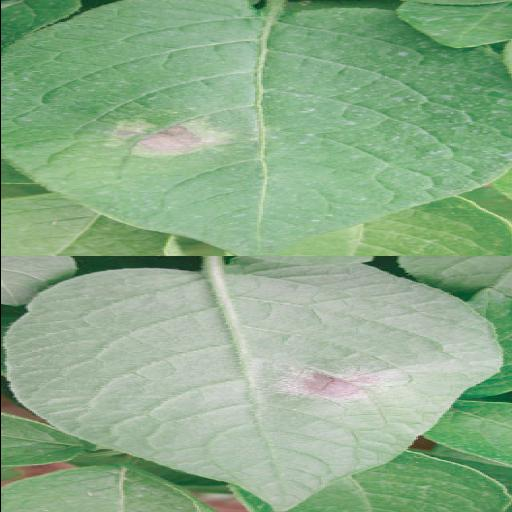disease_tomato: (8, 0, 510, 252), (8, 256, 500, 512)
